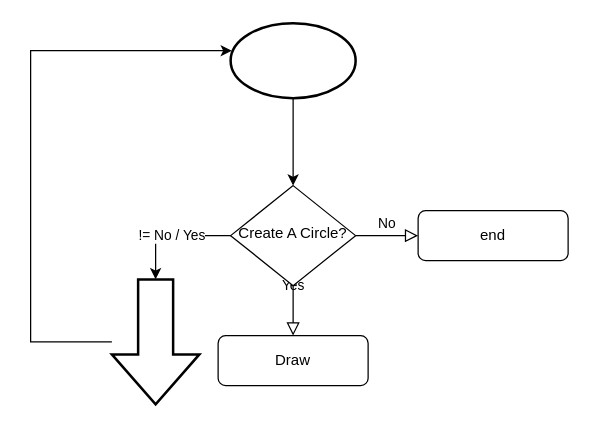
The diagram is 590 pixels wide and 426 high, and some of its shapes have lost their labels. Each missing label, with the centre of its shape:
"INVALID OPTION." belongs at point 155,341.
"START" belongs at point 292,60.
